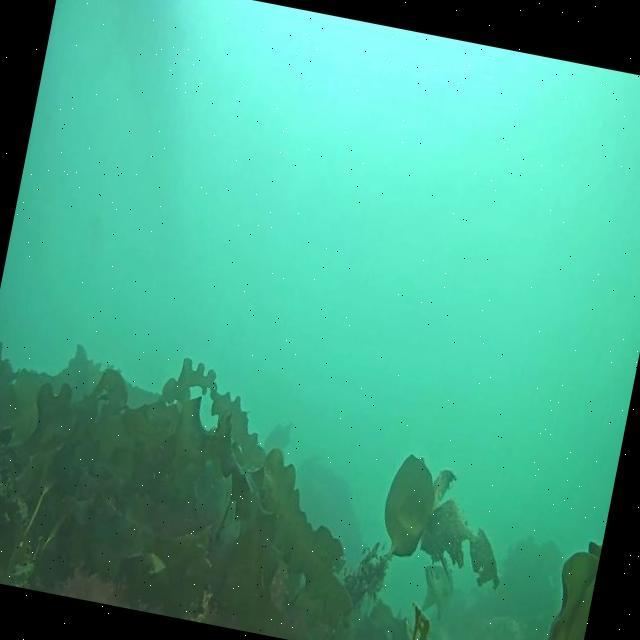fish: (415, 560, 455, 618)
